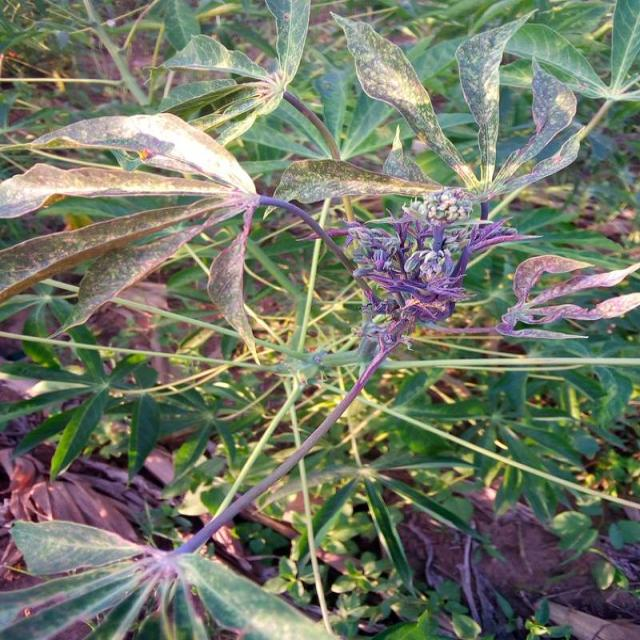cassava leaf: (0, 3, 638, 637), (328, 9, 478, 190)
